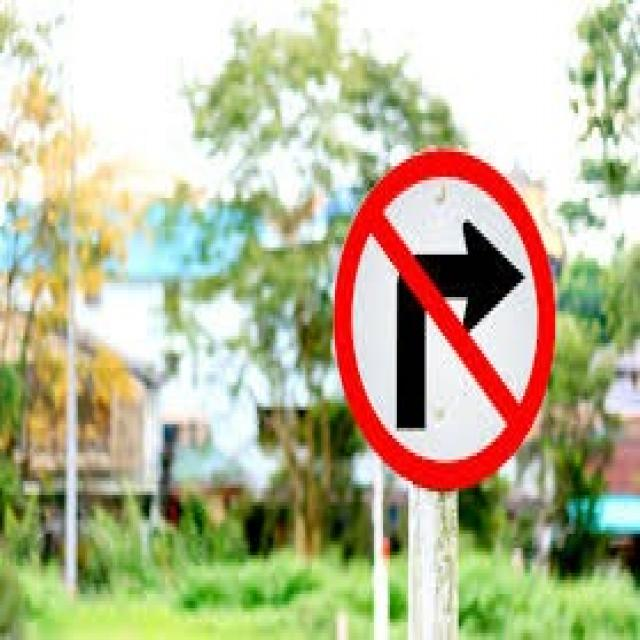do_not_turn_right: (334, 131, 558, 492)
